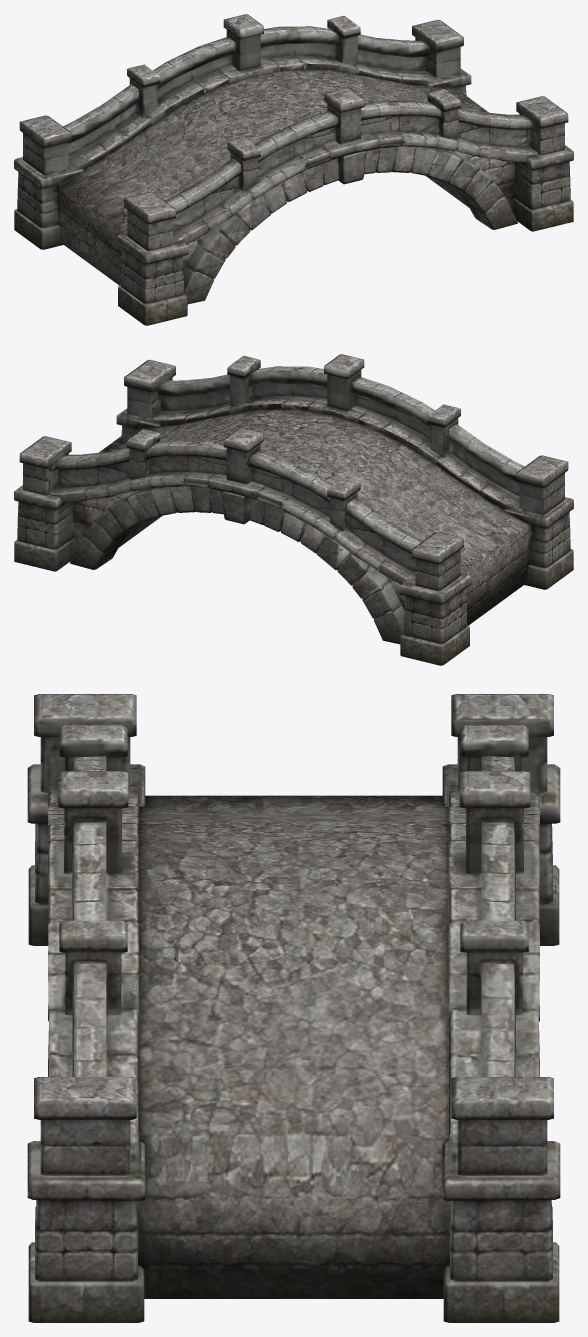
The model's file is bridge.glb.
The picture shows the model from 3 angles, top to bottom: view 1: azimuth 30°, elevation 25°; view 2: azimuth 150°, elevation 25°; view 3: azimuth 270°, elevation 25°; orthographic projection. The views are drawn at different scales.
Visible parts, largest first — view 1: b398b6e3_d0d9_4a7e_9b78_27d05b92df73; view 2: b398b6e3_d0d9_4a7e_9b78_27d05b92df73; view 3: b398b6e3_d0d9_4a7e_9b78_27d05b92df73.
Boxes of the visible parts, x1,y1,x2,y2 form: b398b6e3_d0d9_4a7e_9b78_27d05b92df73: (14, 14, 573, 325); b398b6e3_d0d9_4a7e_9b78_27d05b92df73: (14, 354, 573, 665); b398b6e3_d0d9_4a7e_9b78_27d05b92df73: (27, 694, 560, 1322).
Size of the model in its own units: 0.9995 by 0.3706 by 0.5347.
1 material, 1 textured.
